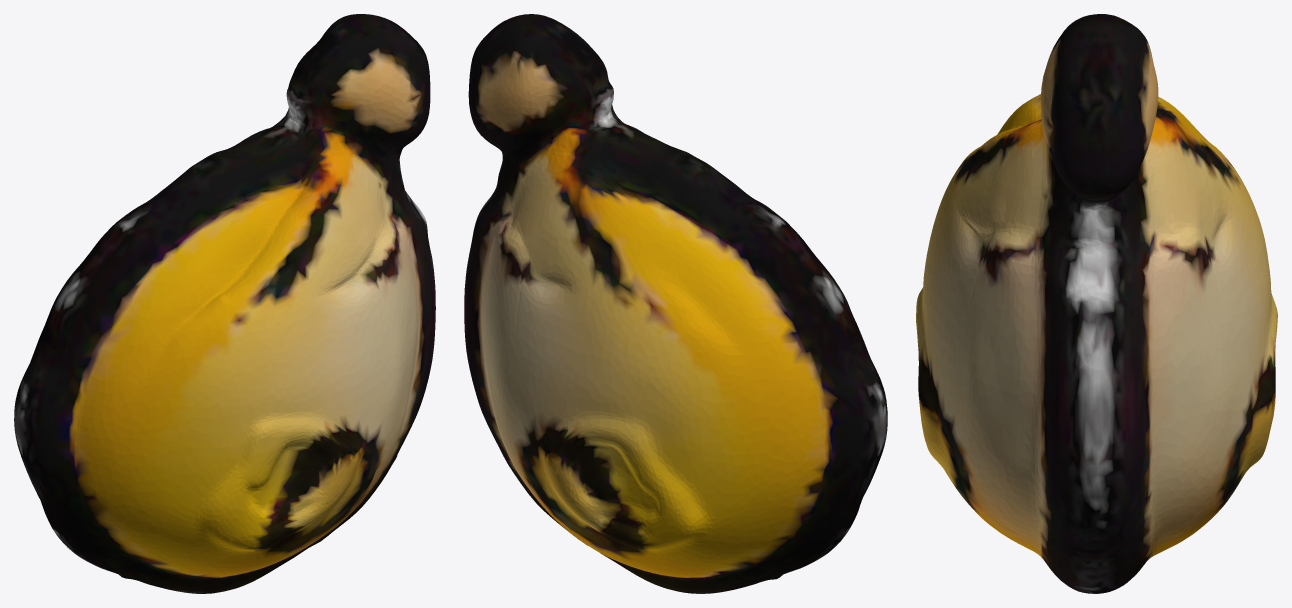
Rendered from potiondex.glb.
3 renders of one model, left to right at view 1: azimuth 30°, elevation 25°; view 2: azimuth 150°, elevation 25°; view 3: azimuth 270°, elevation 25°, orthographic. The views are drawn at different scales.
Parts seen in each view (by area): view 1: geometry_0; view 2: geometry_0; view 3: geometry_0.
Part boxes in pixels (x1=…): geometry_0: x1=14, y1=14, x2=435, y2=593; geometry_0: x1=464, y1=14, x2=887, y2=593; geometry_0: x1=916, y1=14, x2=1277, y2=593.
Bounding box in the file's own units: 0.375 × 0.4636 × 0.2386.
